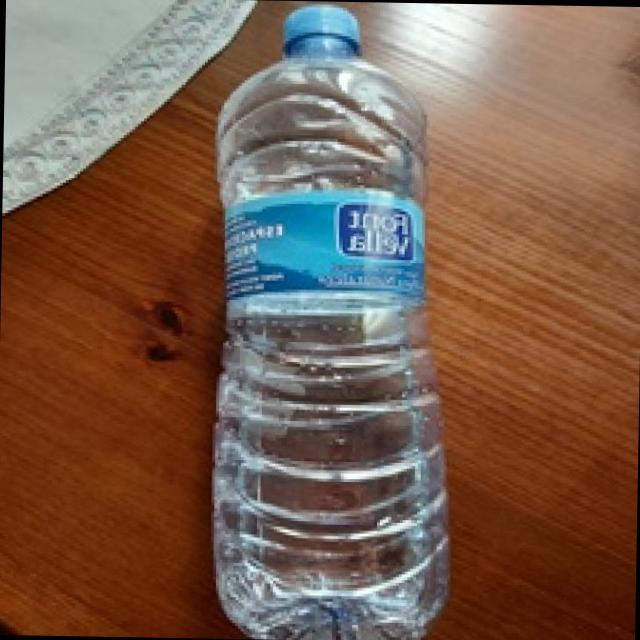good: (205, 0, 452, 640)
